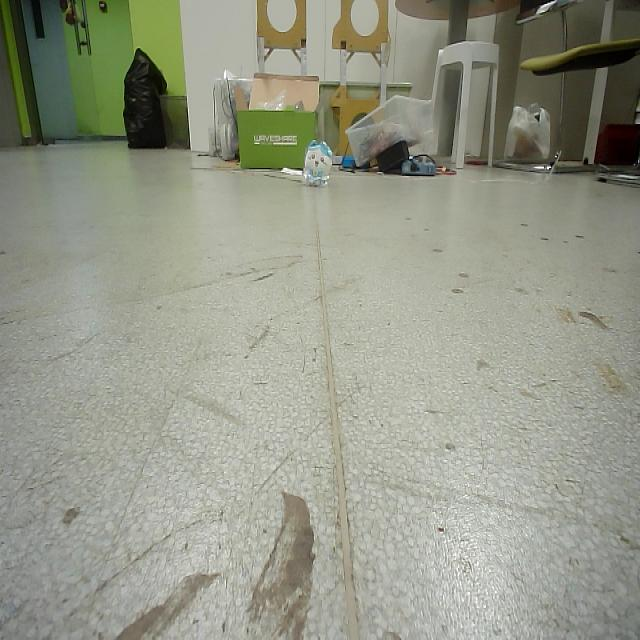xiaoba: (304, 140, 332, 190)
